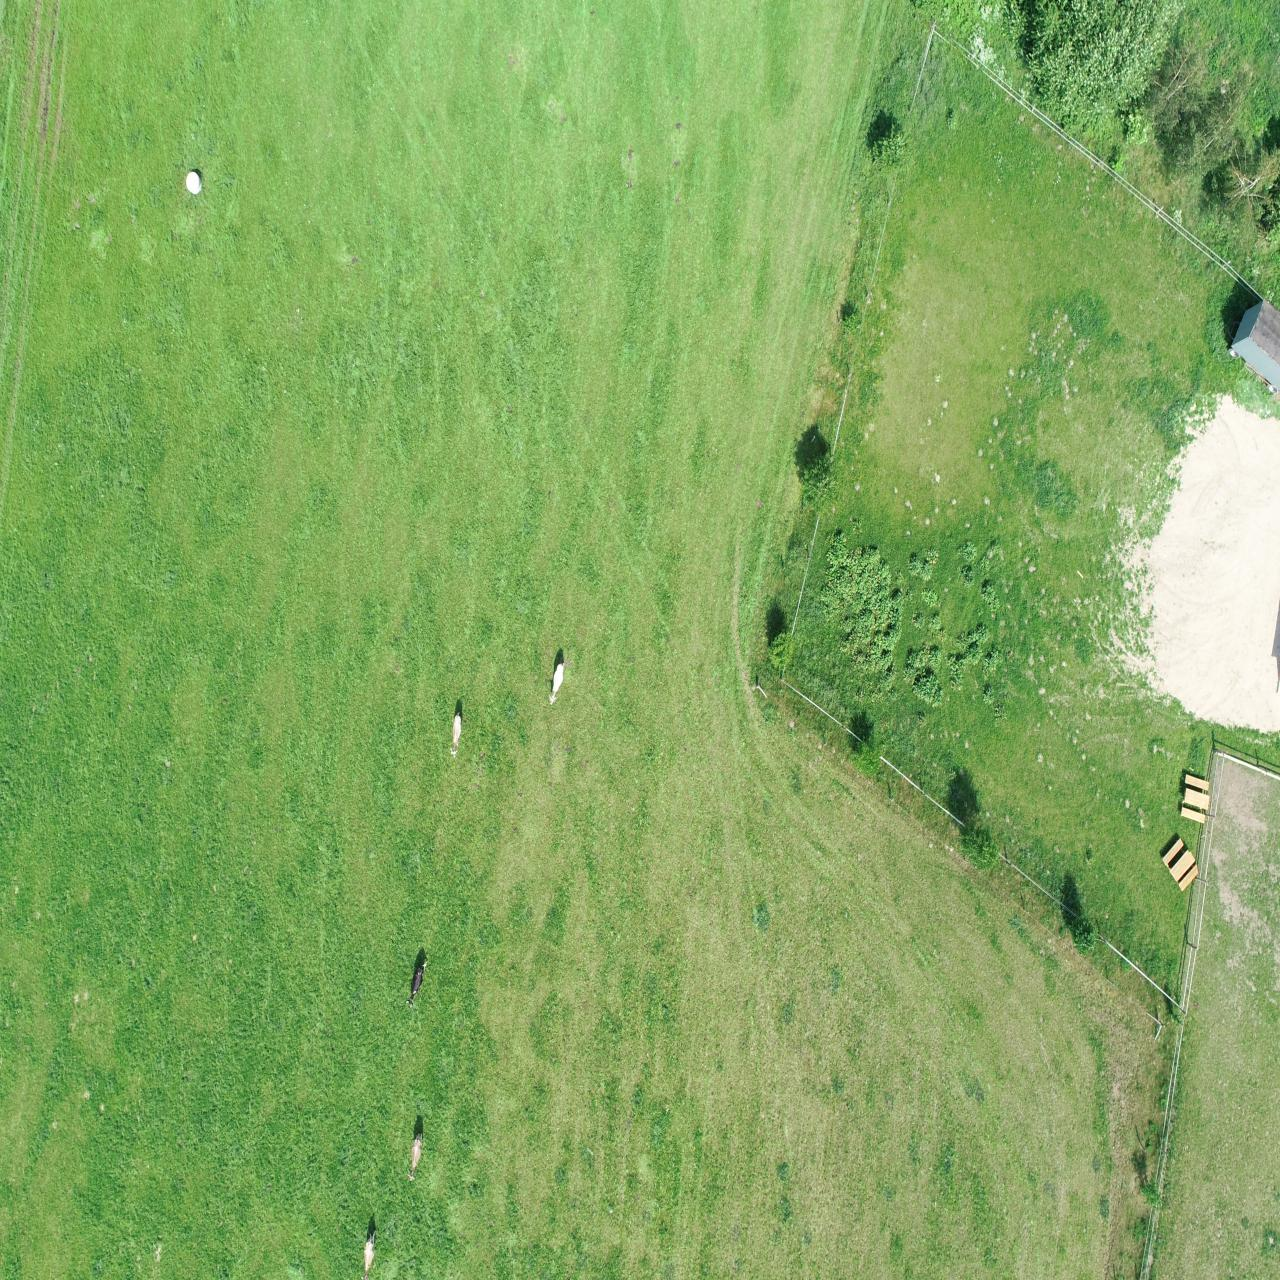cow: (404, 956, 429, 1012), (545, 656, 570, 707), (406, 1131, 428, 1185), (360, 1228, 381, 1279), (445, 707, 463, 760)
